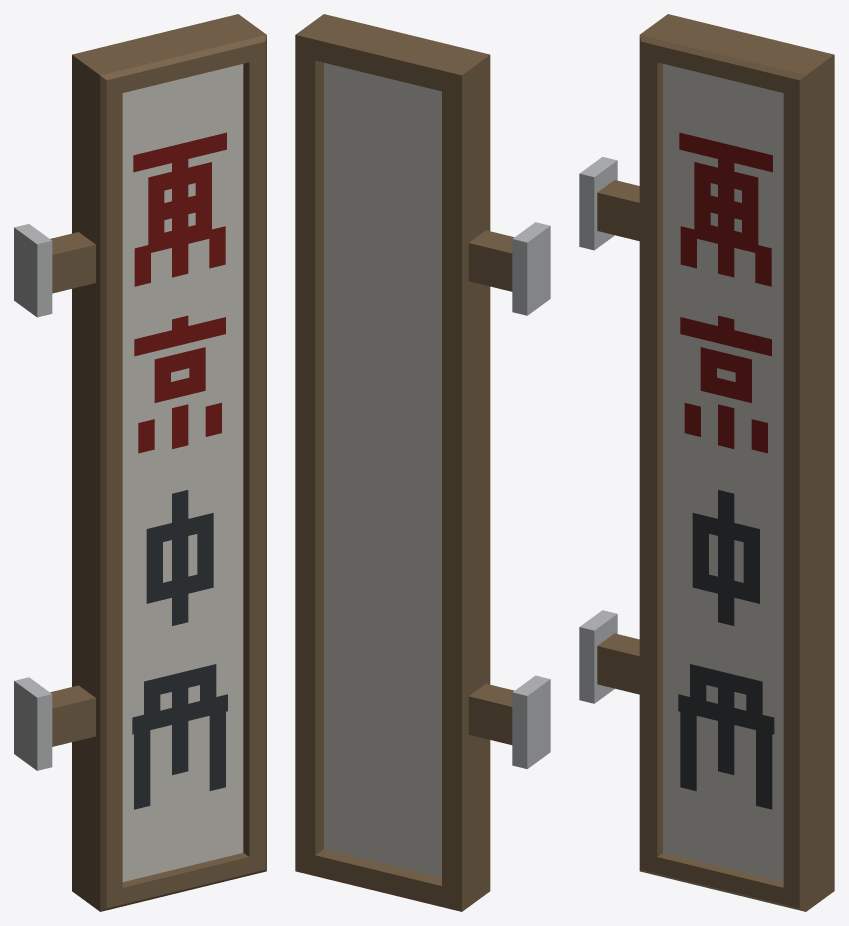
Rendered from vertical-kanji-signboard-cc5162.glb.
The picture shows the model from 3 angles, left to right: view 1: azimuth 30°, elevation 25°; view 2: azimuth 150°, elevation 25°; view 3: azimuth 330°, elevation 25°; orthographic projection.
Parts seen in each view (by area): view 1: signboard; view 2: signboard; view 3: signboard.
Part boxes in pixels (x1=…): signboard: x1=14, y1=14, x2=266, y2=911; signboard: x1=295, y1=14, x2=550, y2=911; signboard: x1=579, y1=14, x2=834, y2=911.
Size of the model in its own units: 0.685 by 2.4 by 0.16.
